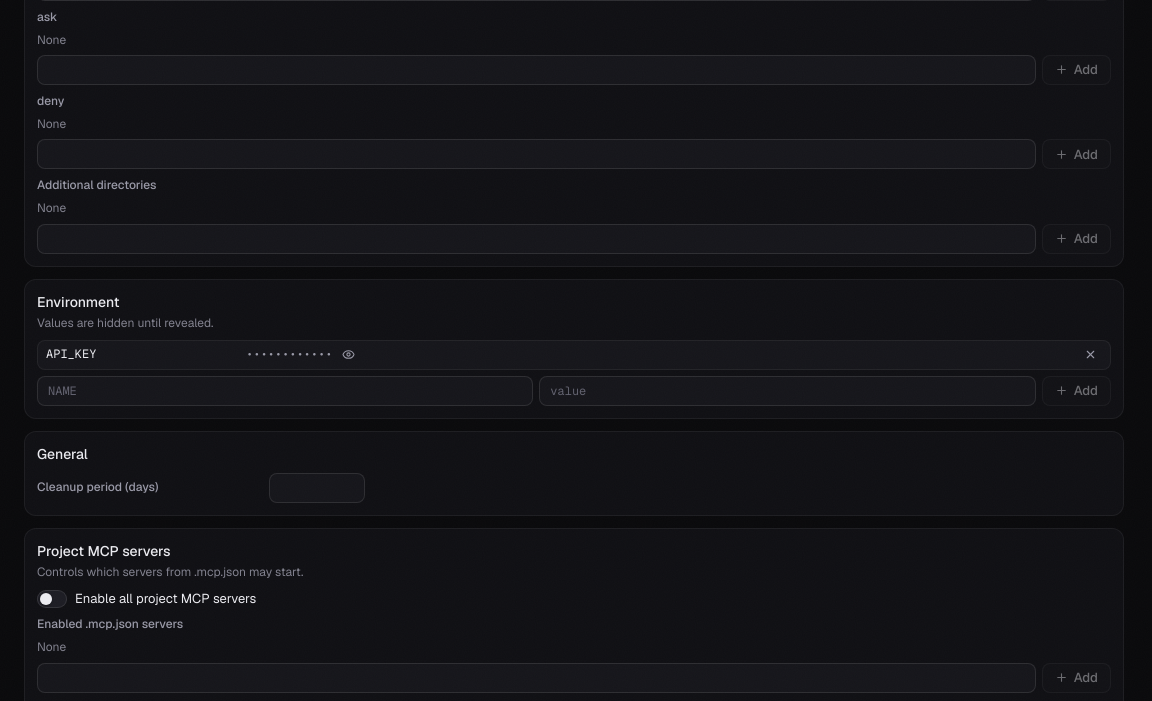
SettingsPage form › keeps env values masked until revealed
(page scrolled)
Expected: the text "sk-secret-123" is not shown
Step 1. Click the button named "Reveal value of API_KEY" → click(348, 355), box left=336, top=343, right=360, bottom=367
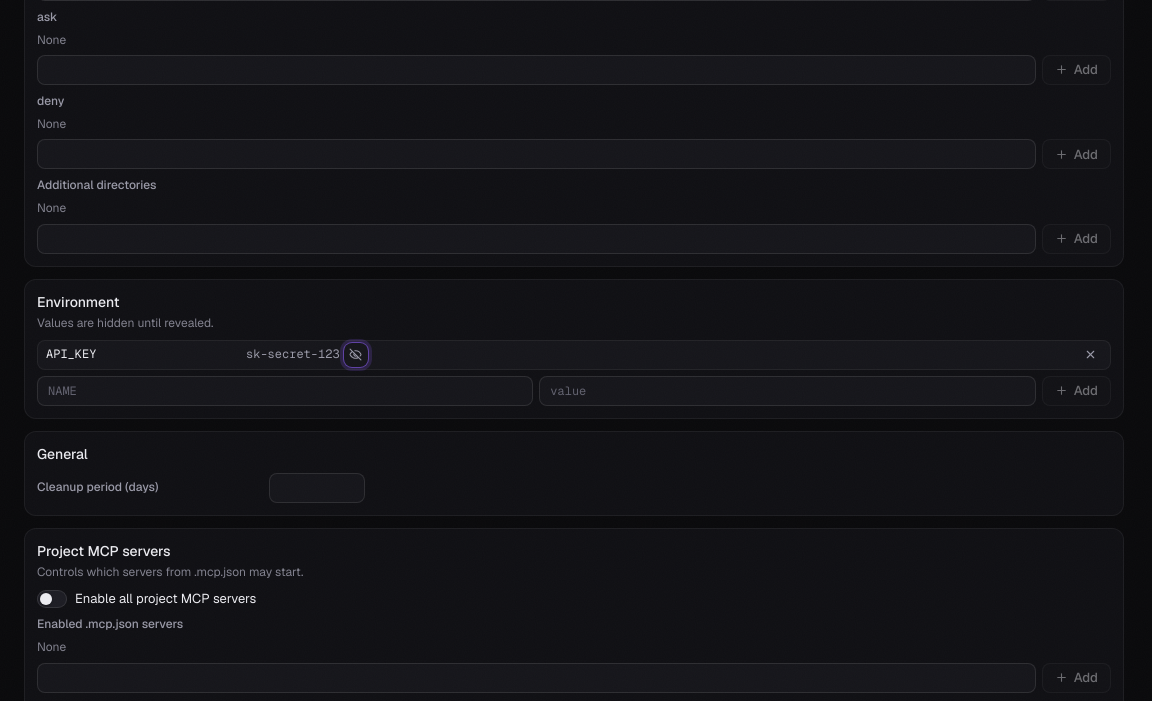
Expected: the text "sk-secret-123" is shown, left=246, top=346, right=340, bottom=363
Step 2. Click the button named "Hide value of API_KEY" → click(356, 355), box left=344, top=343, right=368, bottom=367
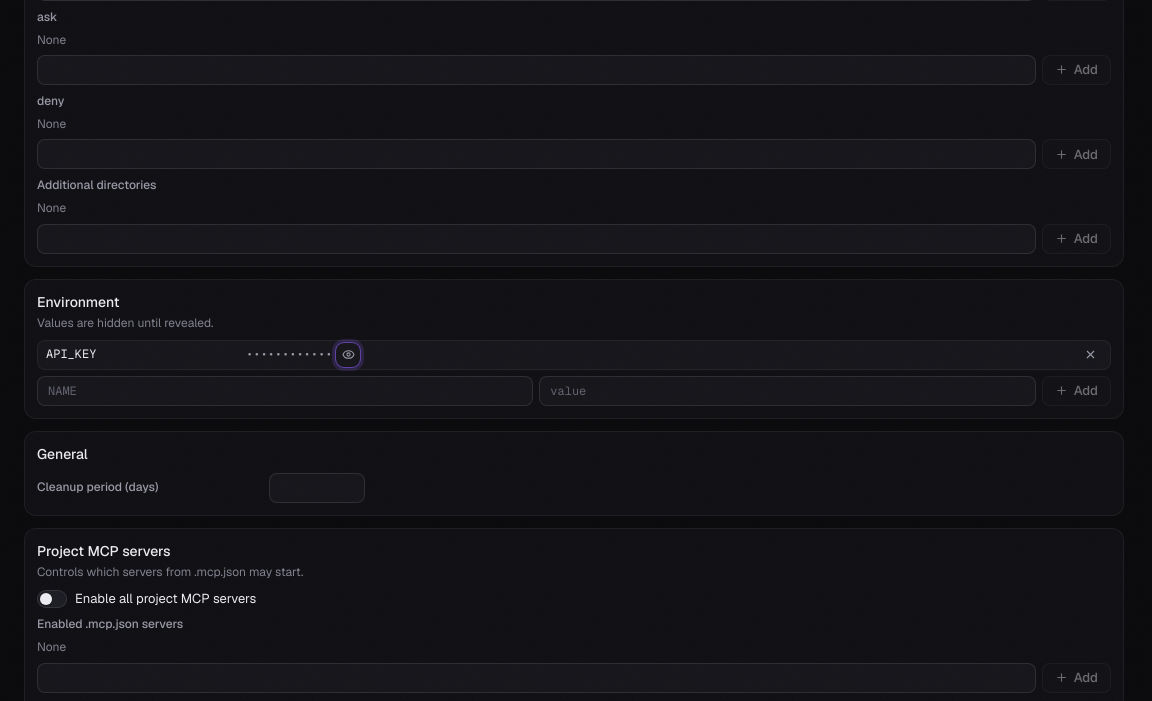
Expected: the text "sk-secret-123" is gone
